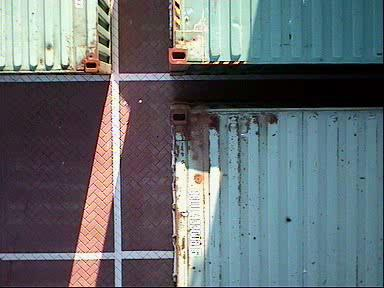groundmarker_2: (163, 130, 235, 231)
